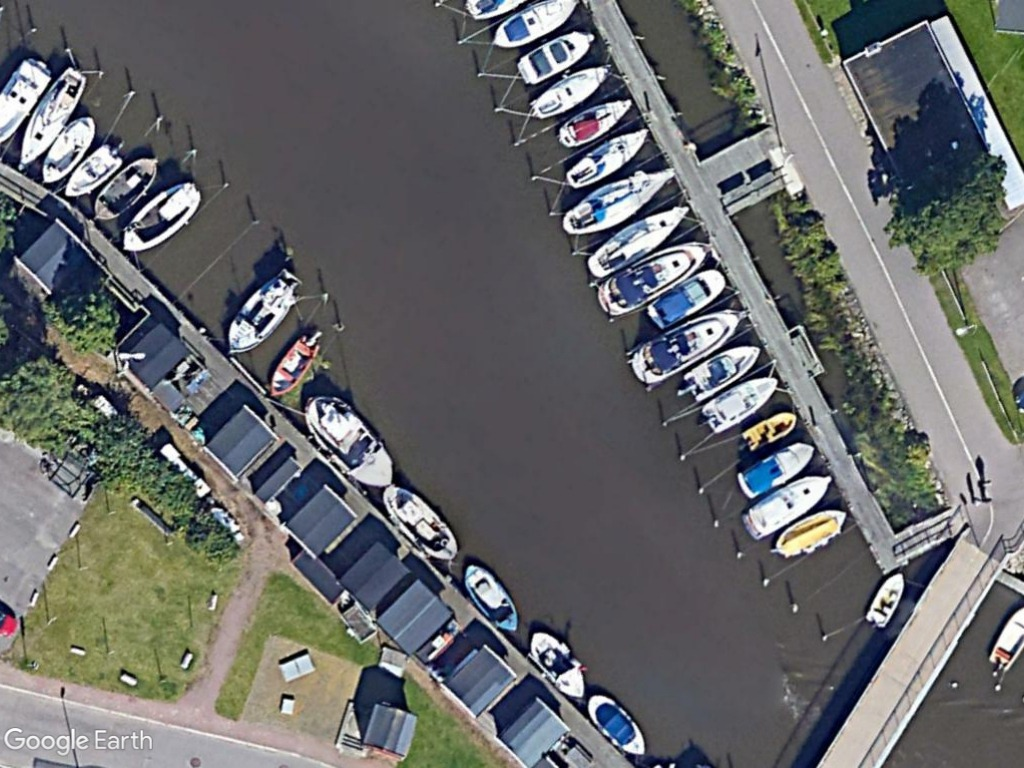boat: (625, 303, 750, 390), (596, 232, 713, 321), (296, 387, 393, 490), (581, 198, 693, 284), (558, 160, 678, 239), (11, 62, 90, 175), (220, 267, 299, 361), (376, 477, 460, 565), (741, 467, 834, 544), (116, 177, 205, 255), (85, 150, 164, 226), (563, 123, 648, 192), (528, 57, 616, 123), (677, 339, 765, 404), (731, 439, 817, 504), (513, 24, 597, 90), (644, 267, 731, 330), (699, 371, 781, 436), (553, 91, 637, 152), (582, 688, 651, 762), (35, 108, 99, 187), (458, 557, 522, 636), (526, 620, 586, 701), (59, 135, 128, 202), (772, 504, 850, 561), (263, 329, 322, 402), (735, 407, 801, 457), (863, 569, 907, 632)
